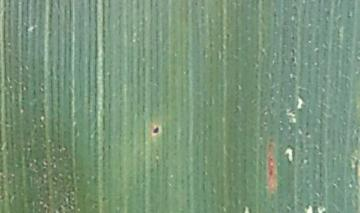tarspot: (150, 123, 162, 138)
